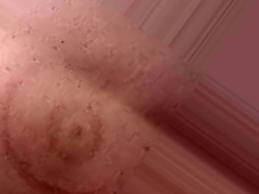Tick: (23, 87, 131, 193)
